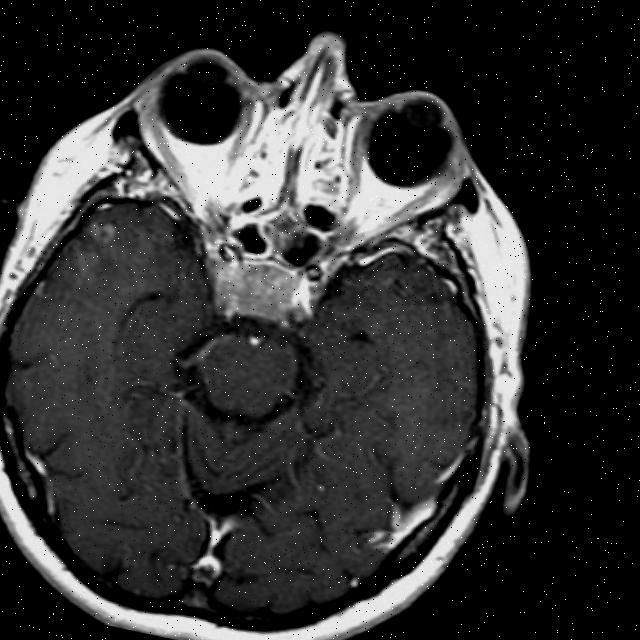Pituitary: (219, 252, 313, 330)
